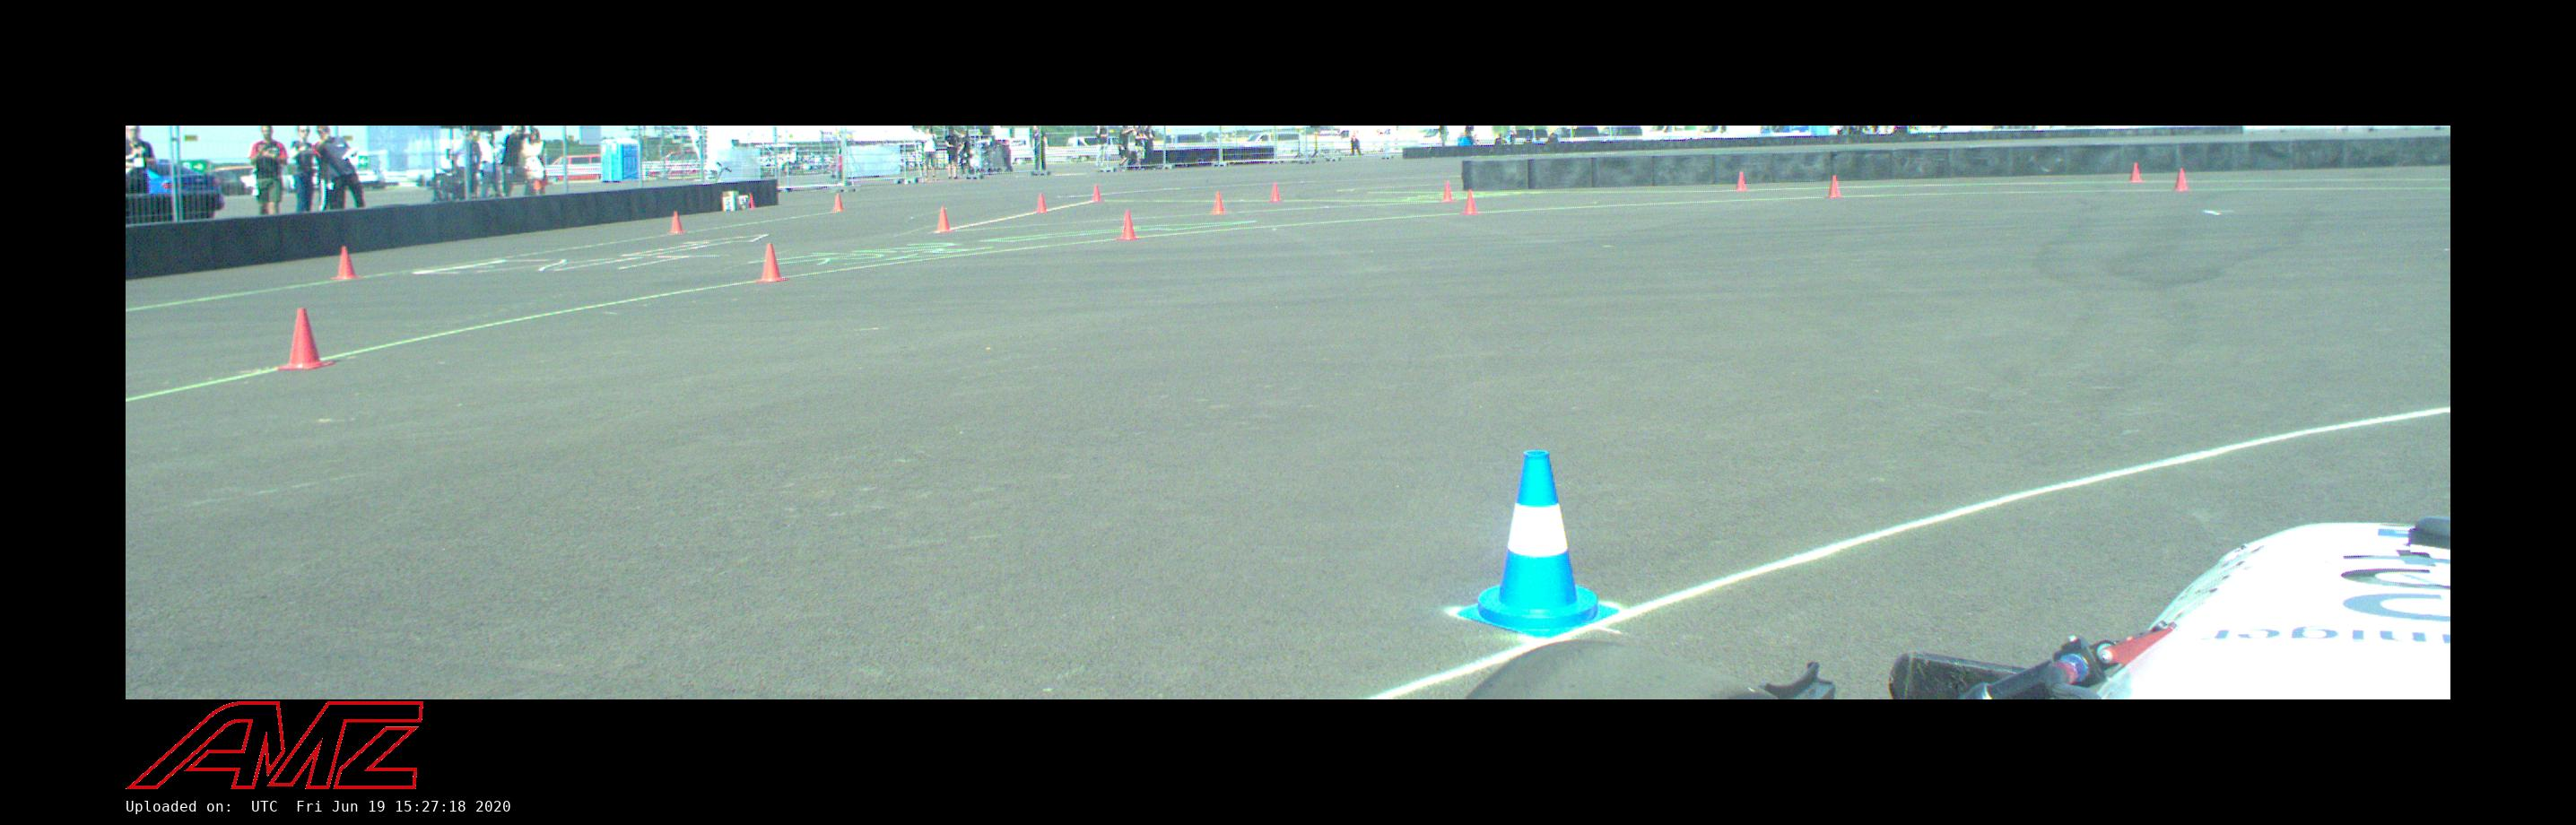blue_cone: (1457, 450, 1620, 639)
